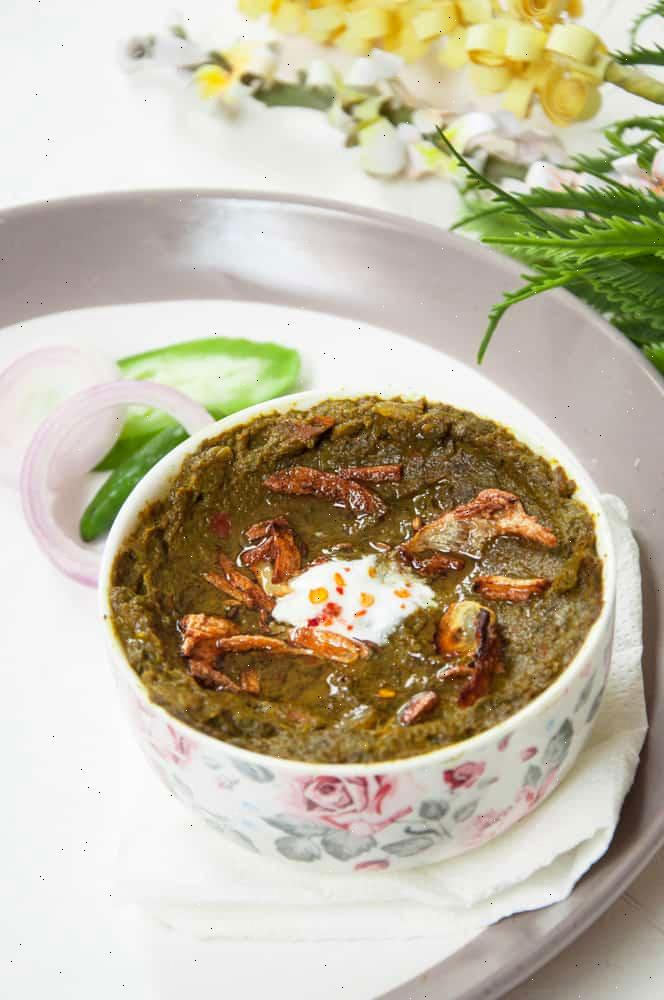saag: (116, 410, 594, 757)
